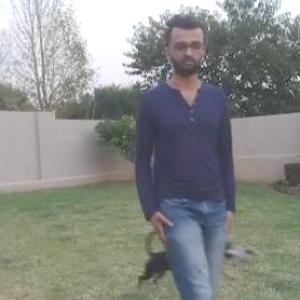follow: (140, 20, 238, 299)
